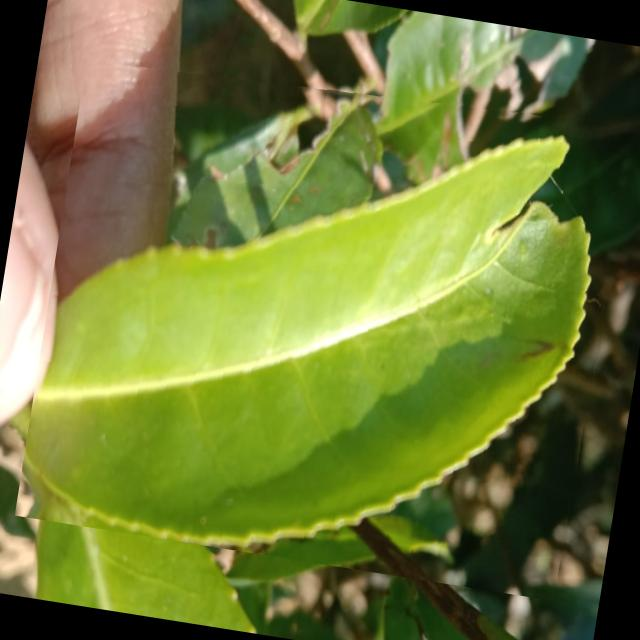Category B(2-4 days): (14, 40, 635, 602)
